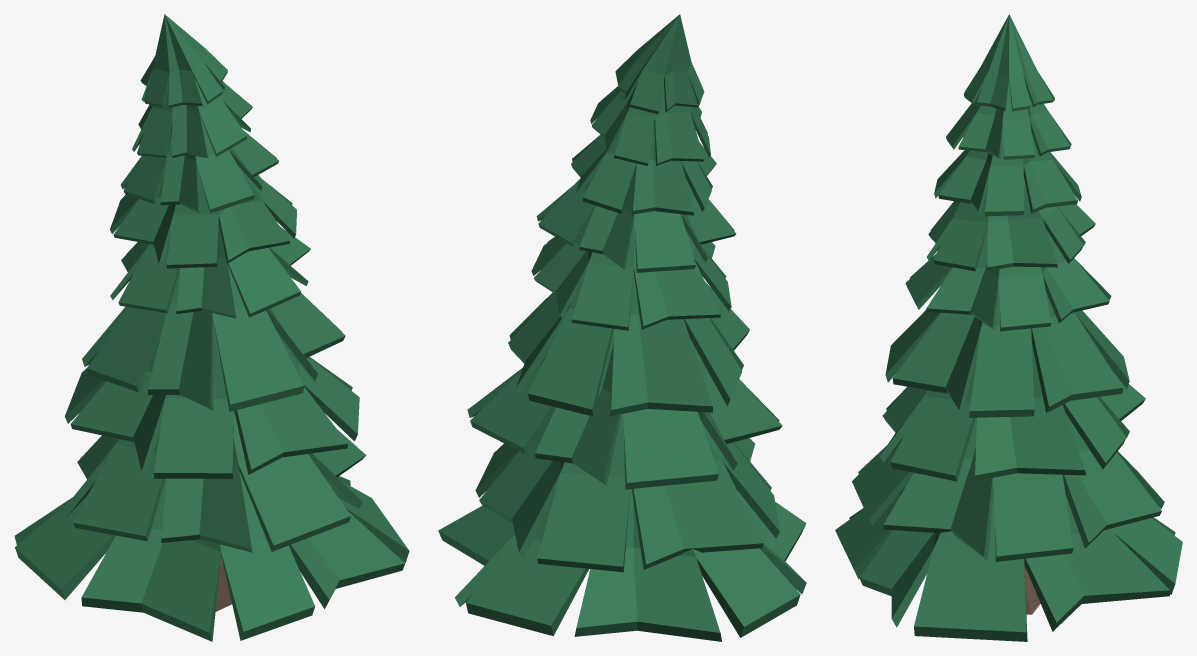
File: spruce_3.fbx
3 views of the same model, side by side, from view 1: azimuth 30°, elevation 25°; view 2: azimuth 150°, elevation 25°; view 3: azimuth 270°, elevation 25° (orthographic). The views are drawn at different scales.
Parts seen in each view (by area): view 1: spruce_3; view 2: spruce_3; view 3: spruce_3.
Boxes of the visible parts, bbox=[...] form: spruce_3: bbox=[14, 14, 409, 641]; spruce_3: bbox=[438, 14, 806, 641]; spruce_3: bbox=[835, 14, 1182, 641].
Size of the model in its own units: 634 by 1105 by 613.
